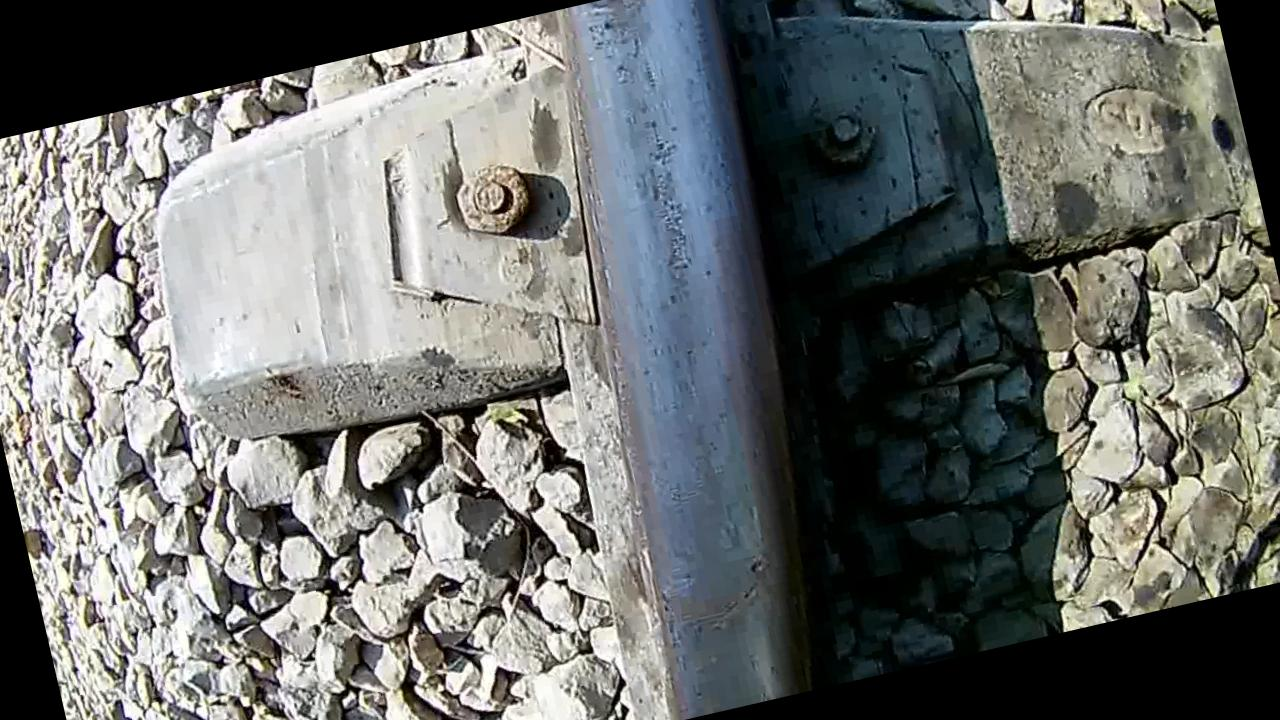crack: (516, 0, 873, 720)
